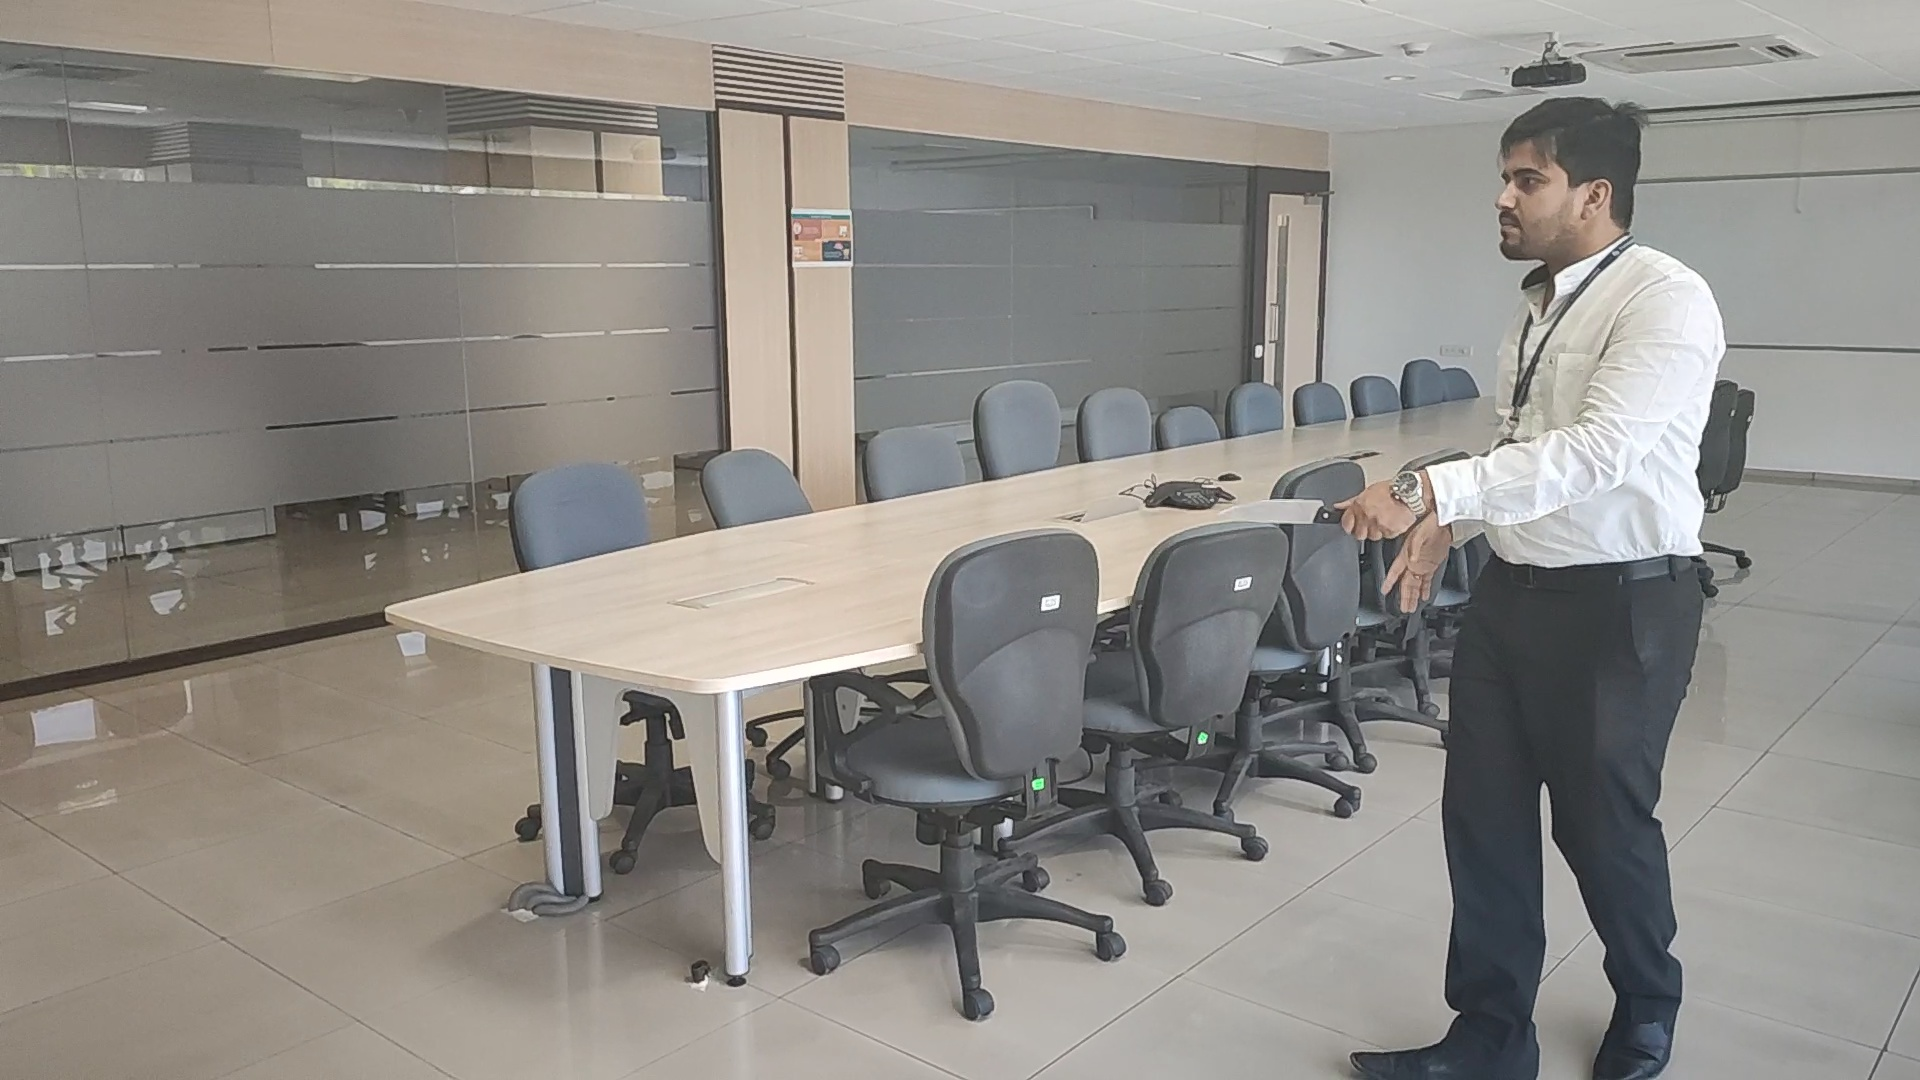knife: (1216, 498, 1335, 526)
